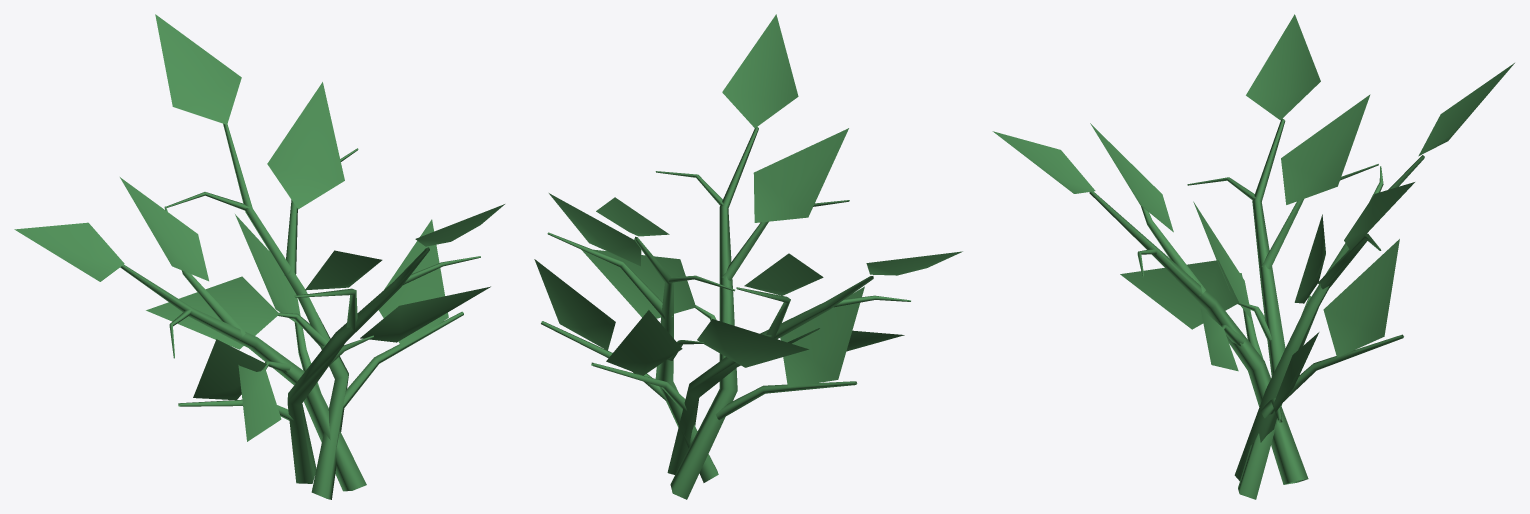
Rendered from plant4.fbx.
3 renders of one model, left to right at view 1: azimuth 30°, elevation 25°; view 2: azimuth 150°, elevation 25°; view 3: azimuth 270°, elevation 25°, orthographic. The views are drawn at different scales.
Visible parts, largest first — view 1: plant4; view 2: plant4; view 3: plant4.
Part boxes in pixels (x1,y1,x2,y2): plant4: (14, 14, 504, 499); plant4: (534, 14, 962, 499); plant4: (992, 14, 1514, 499).
Size of the model in its own units: 3.04 by 2.62 by 3.07.
